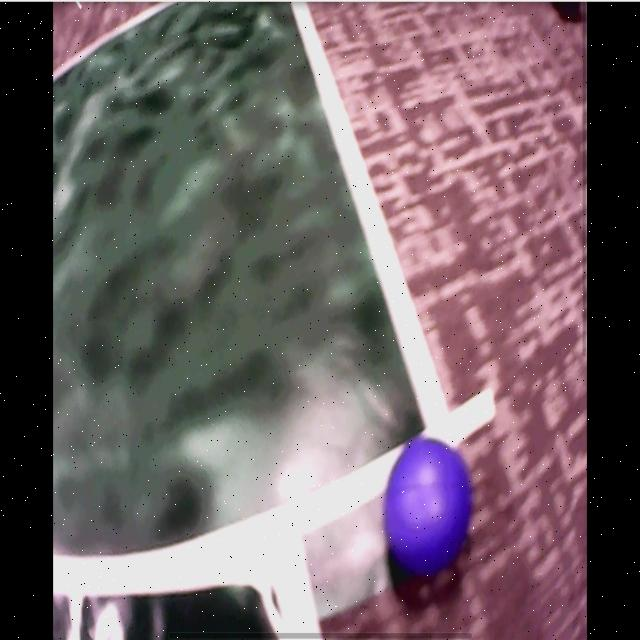ball: (386, 440, 471, 574)
